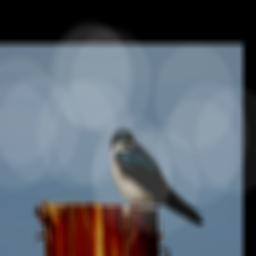Swallow: (109, 128, 205, 227)
